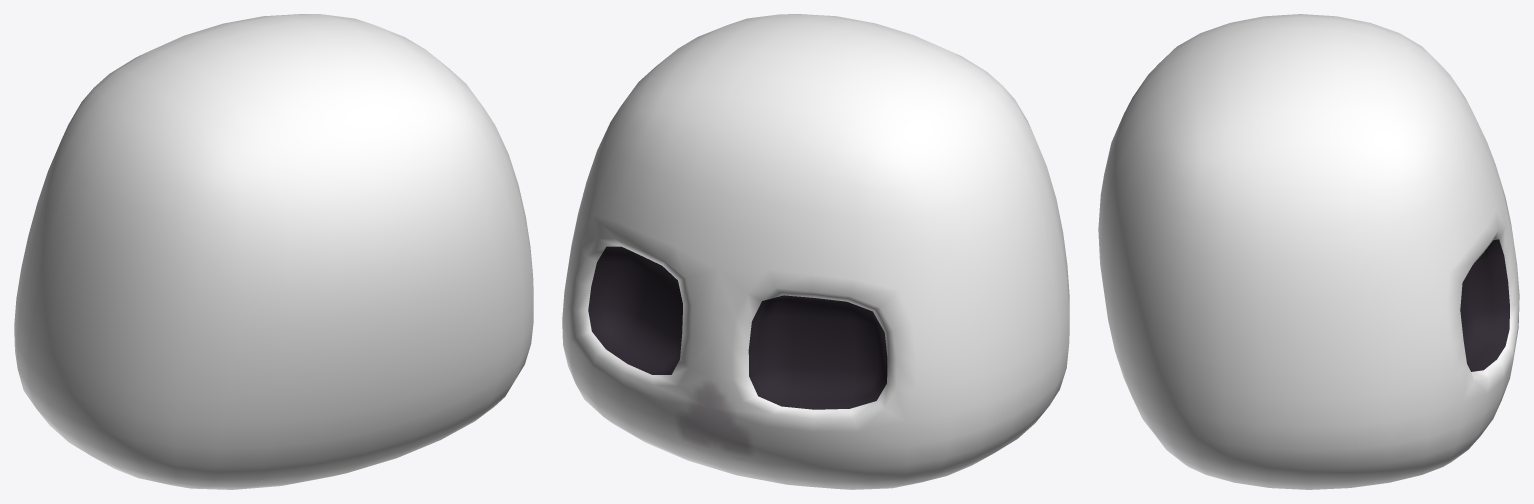
The model's file is head.glb.
The picture shows the model from 3 angles, left to right: view 1: azimuth 30°, elevation 25°; view 2: azimuth 150°, elevation 25°; view 3: azimuth 270°, elevation 25°; orthographic projection. The views are drawn at different scales.
Visible parts, largest first — view 1: head; view 2: head; view 3: head.
Part boxes in pixels (x1,y1,x2,y2): head: (14,14,533,489); head: (562,14,1069,489); head: (1098,14,1519,489).
Size of the model in its own units: 1.1 by 0.9514 by 0.9129.
Materials: 1 (1 with a texture image).
